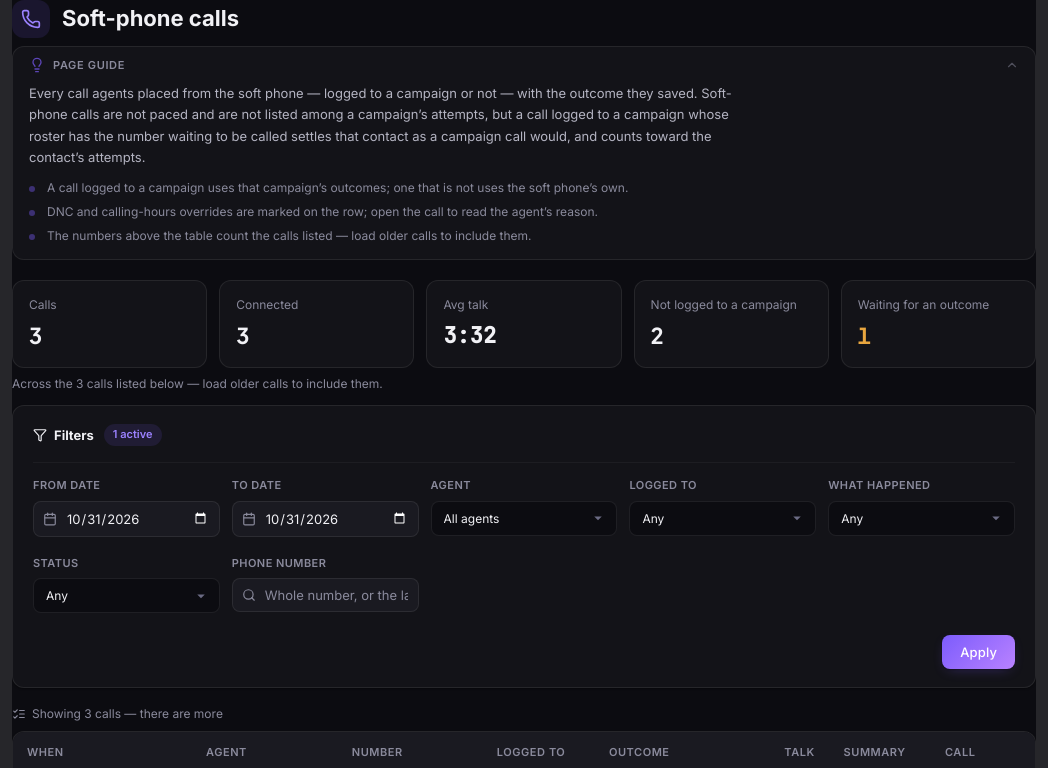
Test: Soft-phone calls (the account list) › lists what the Waiting for an outcome tile counts: the Status filter sends the server’s status
Select "Waiting for an outcome" in the dropdown with test id "filter-status" at (126, 596), box [33,578,220,613]
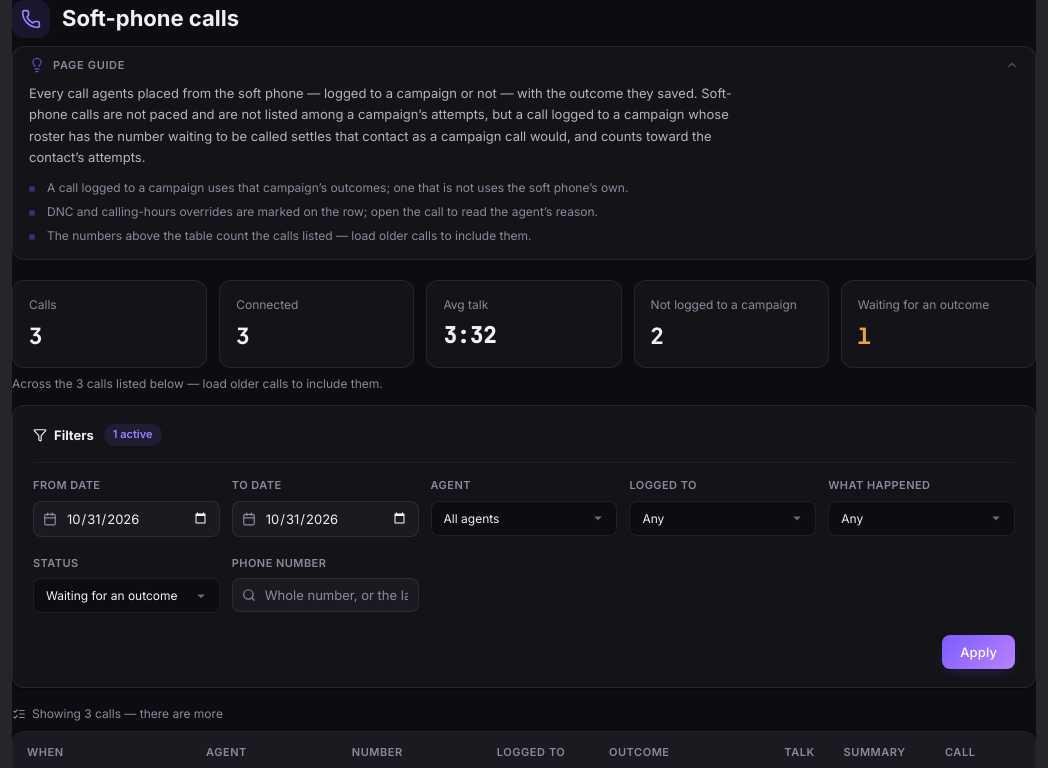
Click the button with test id "filter-apply" at (979, 652), box [942,635,1015,669]
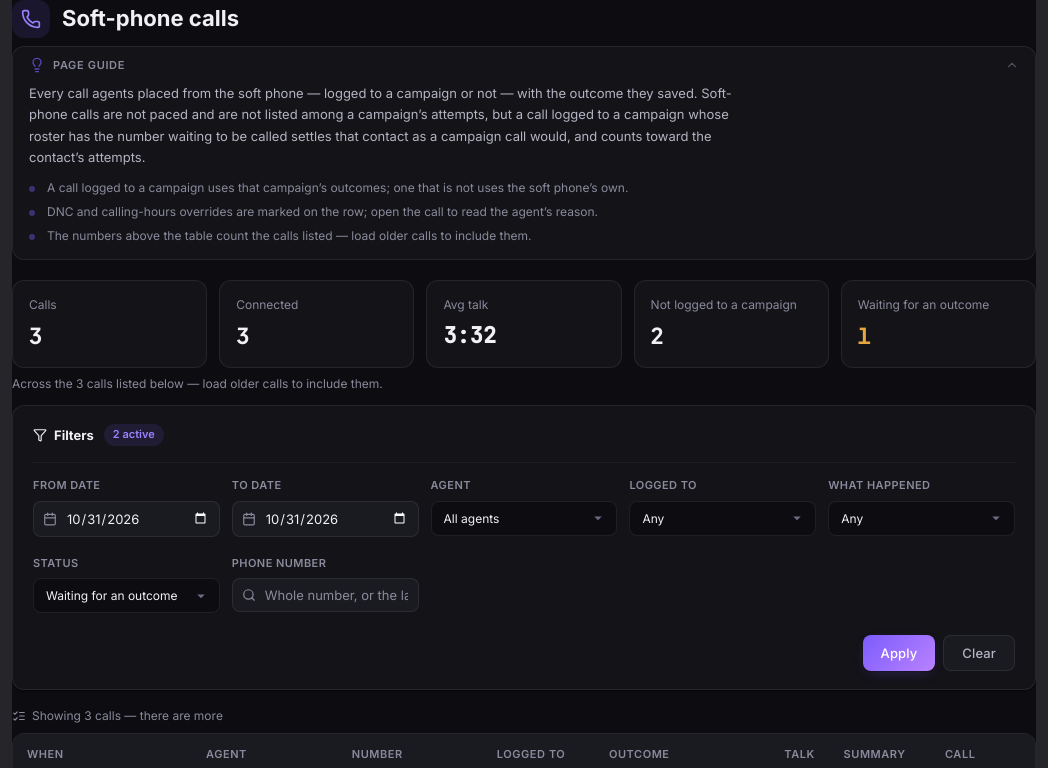
expect the text "2 active" is shown: met, box [104,424,164,446]
